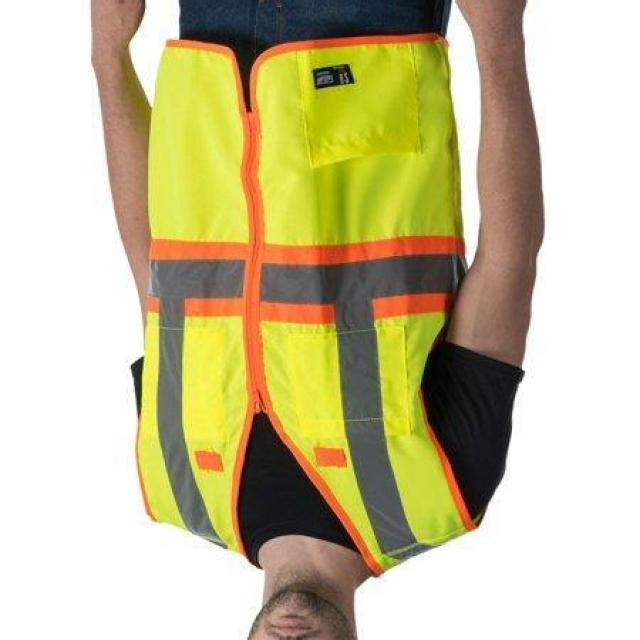jacket: (106, 22, 510, 568)
